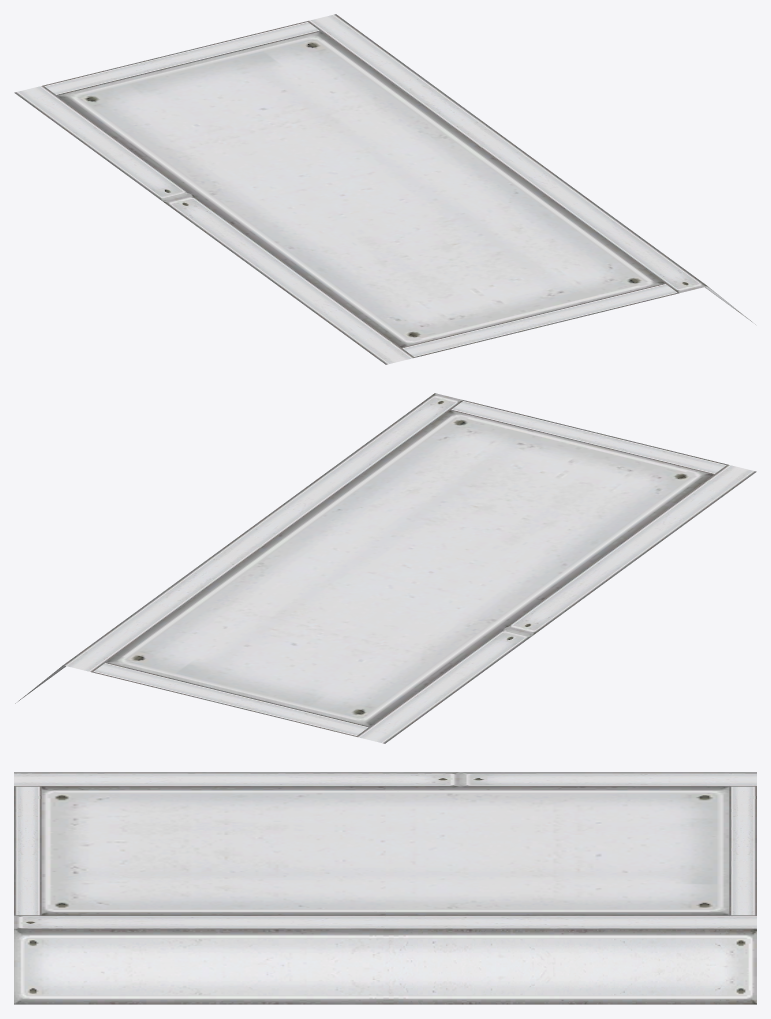
The model's file is Ground_TrimCover_2x4.FBX.
3 renders of one model, top to bottom at view 1: azimuth 30°, elevation 25°; view 2: azimuth 150°, elevation 25°; view 3: azimuth 270°, elevation 25°, orthographic.
Visible parts, largest first — view 1: Ground_TrimCover_2x4; view 2: Ground_TrimCover_2x4; view 3: Ground_TrimCover_2x4.
Part boxes in pixels (left/top/right/bottom): Ground_TrimCover_2x4: left=14, top=14, right=755, bottom=364; Ground_TrimCover_2x4: left=15, top=393, right=756, bottom=743; Ground_TrimCover_2x4: left=14, top=772, right=756, bottom=1004.
Bounding box in the file's own units: 1.15 × 0.152 × 2.
